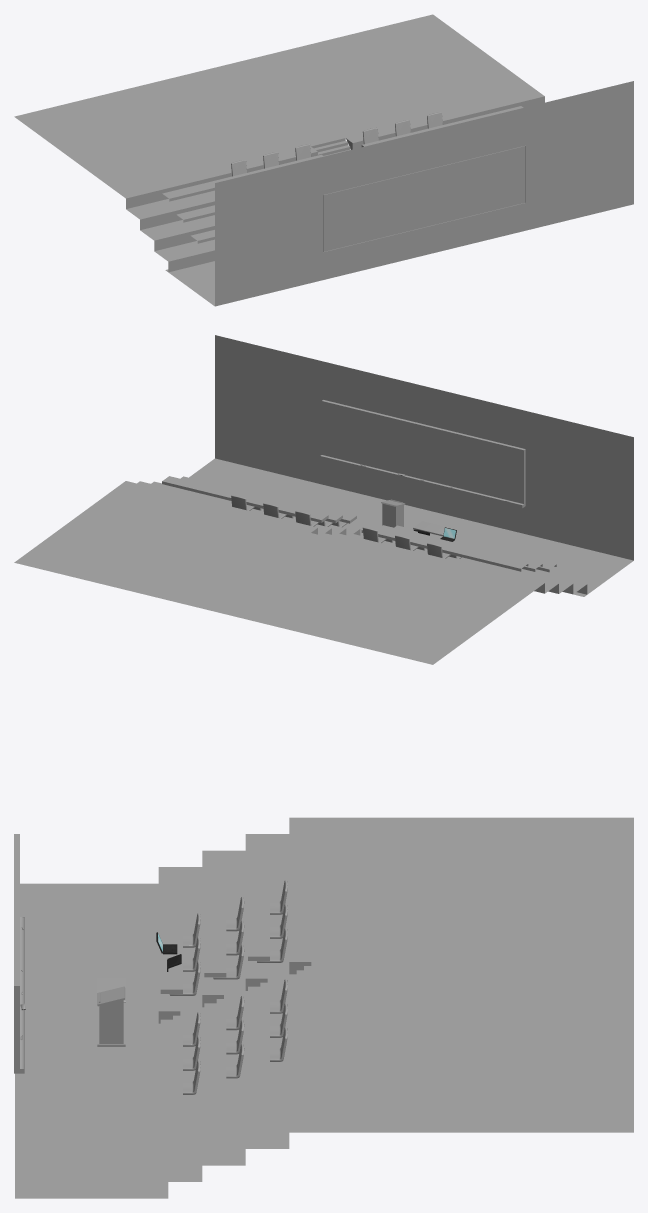
File: classroomTest01.fbx
The picture shows the model from 3 angles, top to bottom: view 1: azimuth 30°, elevation 25°; view 2: azimuth 150°, elevation 25°; view 3: azimuth 270°, elevation 25°; orthographic projection. The views are drawn at different scales.
Parts seen in each view (by area): view 1: floorWall01, landing01, desks02, chairs03, chalkboard01, steps01; view 2: floorWall01, landing01, chalkboard01, desks02, chairs03, podium01; view 3: landing01, floorWall01, desks02, chairs03, chalkboard01, steps01, podium01.
Boxes of the visible parts, x1,y1,x2,y2 form: floorWall01: [165, 81, 633, 306]; landing01: [14, 14, 544, 272]; desks02: [162, 106, 523, 243]; chairs03: [231, 112, 442, 176]; chalkboard01: [323, 145, 525, 251]; steps01: [311, 138, 350, 156]; floorWall01: [189, 335, 633, 596]; landing01: [14, 481, 587, 664]; chalkboard01: [320, 400, 525, 508]; desks02: [162, 476, 556, 572]; chairs03: [231, 495, 461, 558]; podium01: [381, 499, 405, 527]; landing01: [158, 817, 633, 1181]; floorWall01: [15, 883, 168, 1198]; desks02: [160, 836, 269, 1139]; chairs03: [169, 880, 287, 1094]; chalkboard01: [14, 834, 25, 1073]; steps01: [158, 966, 311, 1037]; podium01: [97, 986, 125, 1046].
Bounding box in the file's own units: 22.02 × 6.2 × 18.32.
8 materials, 1 textured.
